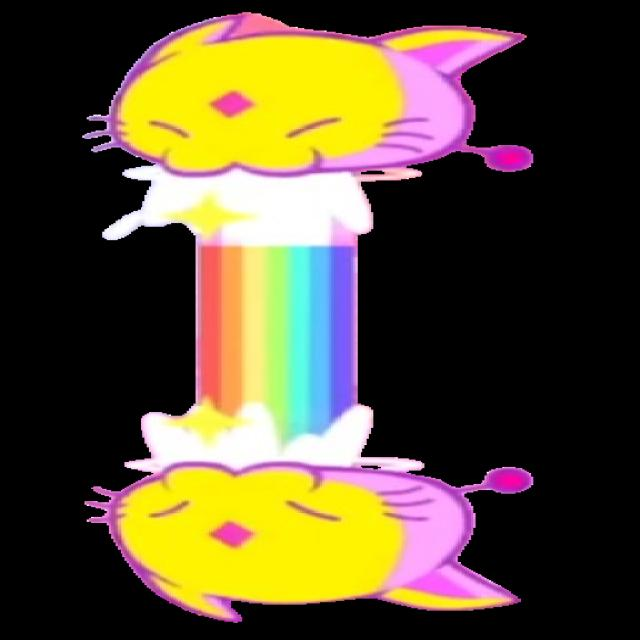shuangya: (4, 3, 639, 640)
